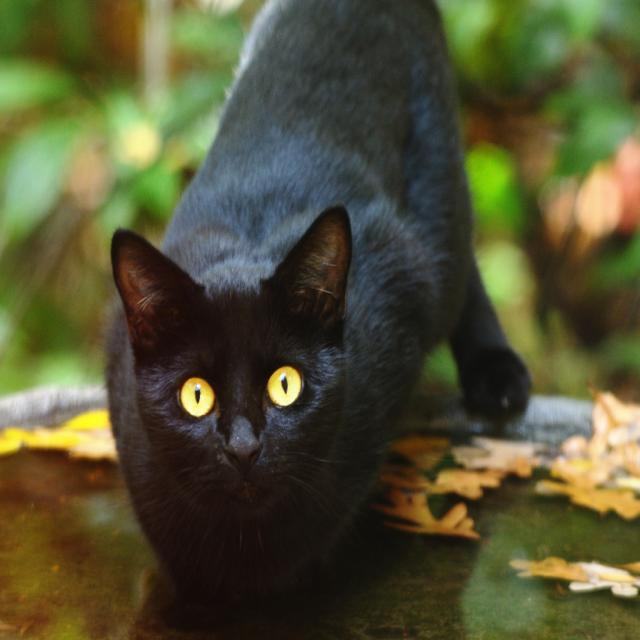Cat: (92, 0, 532, 639)
